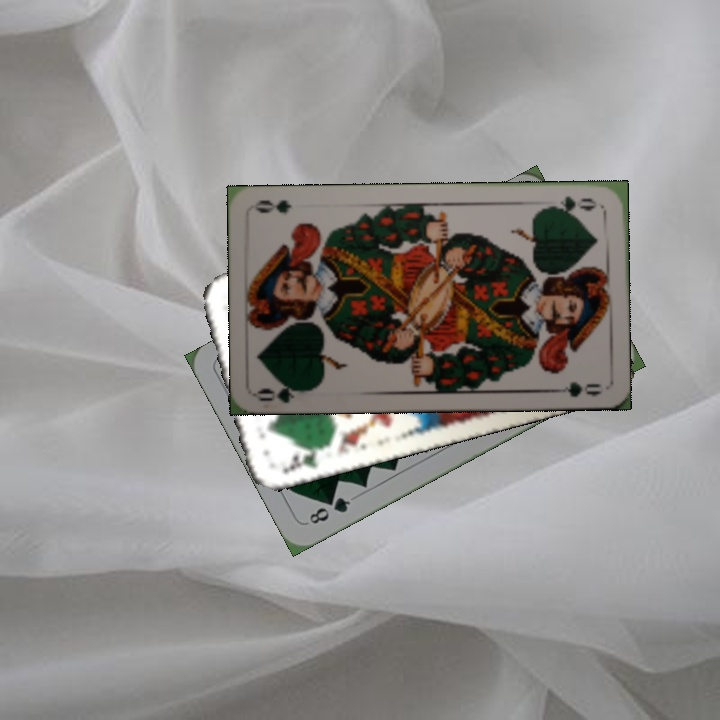G8: (304, 493, 354, 527)
GK: (279, 442, 329, 477)
GO: (255, 378, 314, 405), (543, 192, 600, 216)
